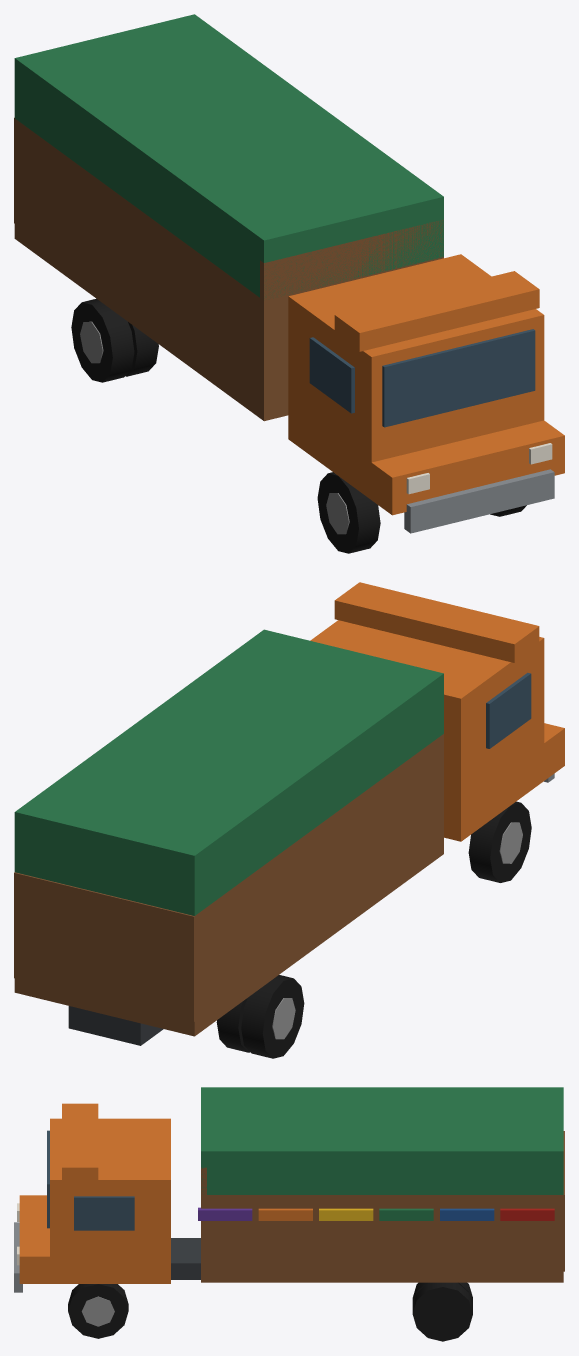
The model's file is lorry_rigid_0.glb.
3 views of the same model, one above another, from view 1: azimuth 30°, elevation 25°; view 2: azimuth 150°, elevation 25°; view 3: azimuth 270°, elevation 25° (orthographic). The views are drawn at different scales.
Parts seen in each view (by area): view 1: lorry_rigid_0, wheel_RL, wheel_FL; view 2: lorry_rigid_0, wheel_RL, wheel_FL; view 3: lorry_rigid_0, wheel_RR, wheel_FR.
Boxes of the visible parts, x1,y1,x2,y2 form: lorry_rigid_0: (14,14,564,533); wheel_RL: (71,298,158,382); wheel_FL: (317,472,380,553); lorry_rigid_0: (14,582,564,1045); wheel_RL: (216,975,304,1058); wheel_FL: (468,801,531,882); lorry_rigid_0: (14,1087,564,1292); wheel_RR: (412,1282,472,1341); wheel_FR: (68,1284,128,1338).
Size of the model in its own units: 2.65 by 3.45 by 9.11.
